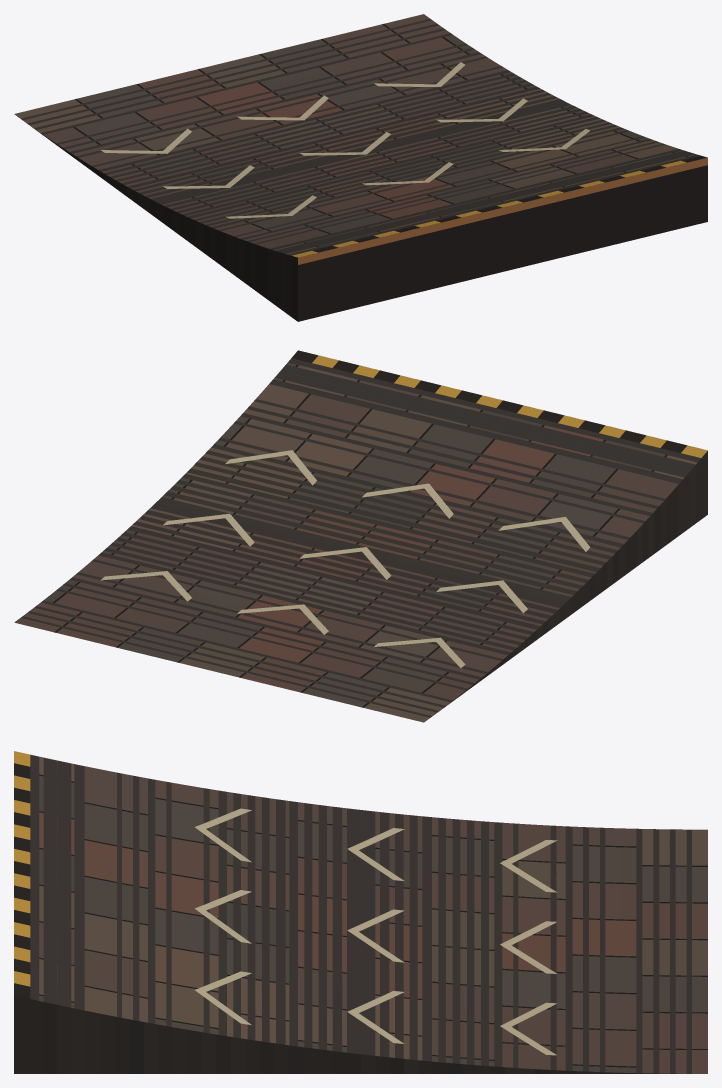
Rendered from plate_kicker_24x3x20.glb.
The picture shows the model from 3 angles, top to bottom: view 1: azimuth 30°, elevation 25°; view 2: azimuth 150°, elevation 25°; view 3: azimuth 270°, elevation 25°; orthographic projection. The views are drawn at different scales.
Visible parts, largest first — view 1: plate_kicker_24x3x20, plate_kicker_24x3x20-col; view 2: plate_kicker_24x3x20, plate_kicker_24x3x20-col; view 3: plate_kicker_24x3x20, plate_kicker_24x3x20-col.
Part boxes in pixels (x1,y1,x2,y2): plate_kicker_24x3x20: [14, 14, 707, 321]; plate_kicker_24x3x20-col: [21, 19, 700, 255]; plate_kicker_24x3x20: [14, 350, 707, 722]; plate_kicker_24x3x20-col: [21, 358, 700, 717]; plate_kicker_24x3x20: [14, 751, 707, 1073]; plate_kicker_24x3x20-col: [30, 754, 691, 1073].
Size of the model in its own units: 20 by 3 by 24.
